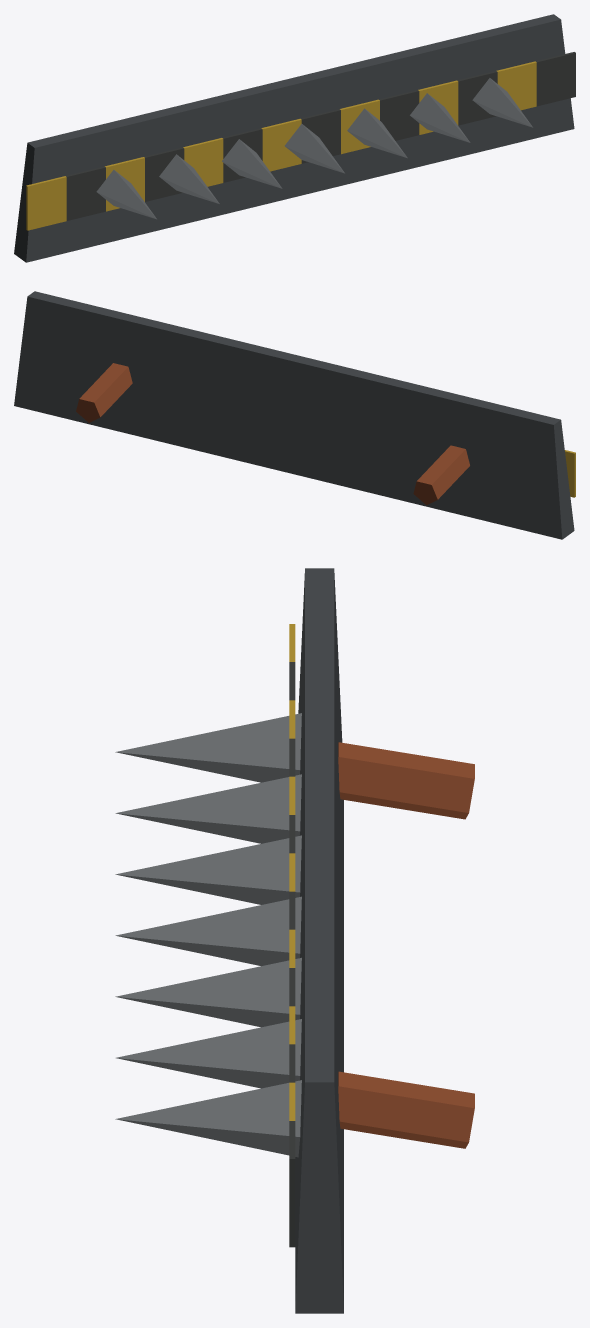
The model's file is upg_ram_t5.glb.
3 views of the same model, one above another, from view 1: azimuth 30°, elevation 25°; view 2: azimuth 150°, elevation 25°; view 3: azimuth 270°, elevation 25° (orthographic). The views are drawn at different scales.
Visible parts, largest first — view 1: ram; view 2: ram; view 3: ram.
Part boxes in pixels (box(x1,y1,x2,y2)): ram: box(14, 14, 575, 262); ram: box(14, 291, 575, 539); ram: box(115, 568, 474, 1313).
Size of the model in its own units: 2.6 by 0.5 by 0.7387.
